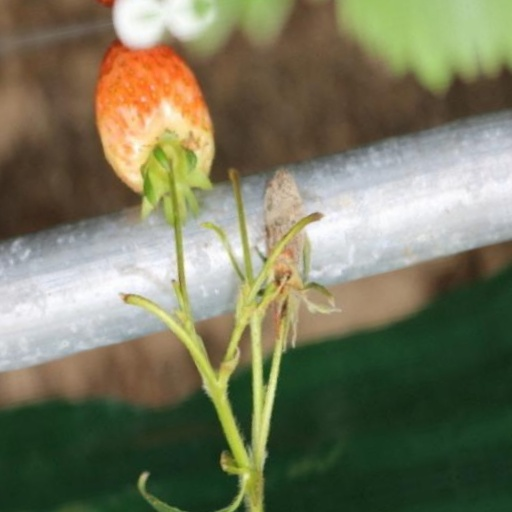Gray Mold: (201, 173, 251, 335)
